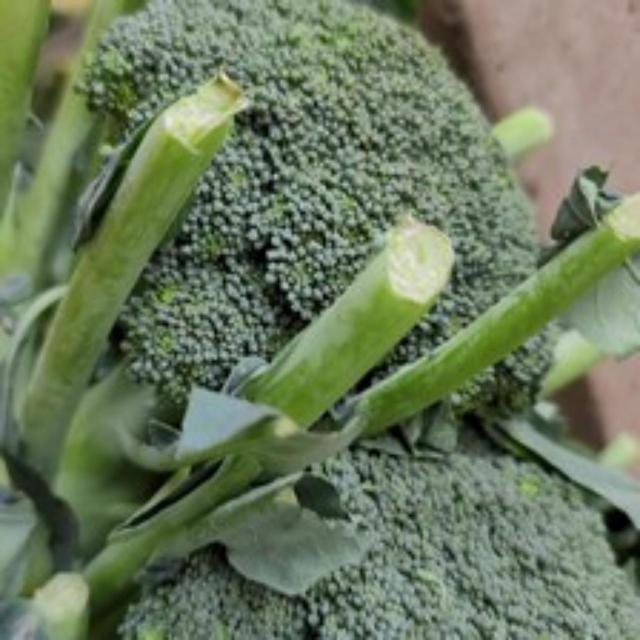broccoli: (71, 0, 551, 466)
